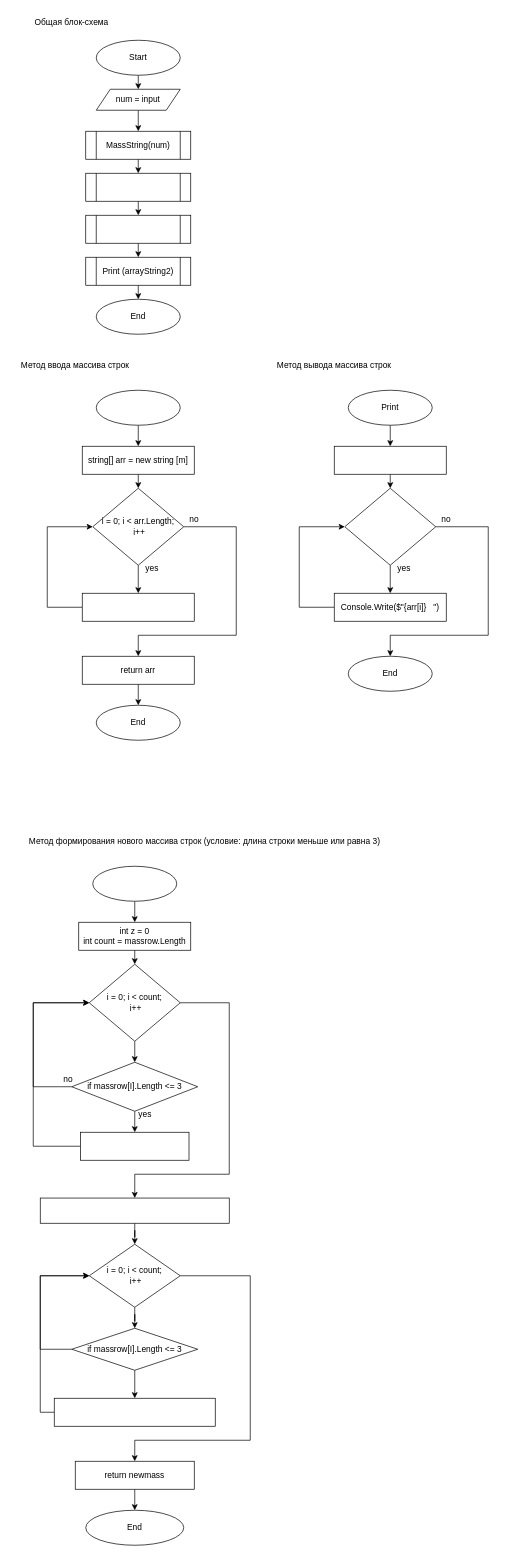
Some shapes in this 506 by 1558 pixel diagram are drawn without their labels. Here are the shapes that lost their labels. From the top down, the centre of each, then its label:
At point 138,187: "Print (arrayString1)".
At point 138,229: "Sort (arrayString1)".
At point 138,407: "MassString".
At point 390,460: "int size = arr.Length".
At point 390,526: "i = 0; i < size; i++".
At point 138,607: "arr[i] = Console.ReadLine()!".
At point 134,883: "Sort".
At point 134,1146: "z++".
At point 134,1210: "string[] newmass = new srting[z] int m = 0".
At point 134,1412: "newmass[m] = massrow[I] m++".
